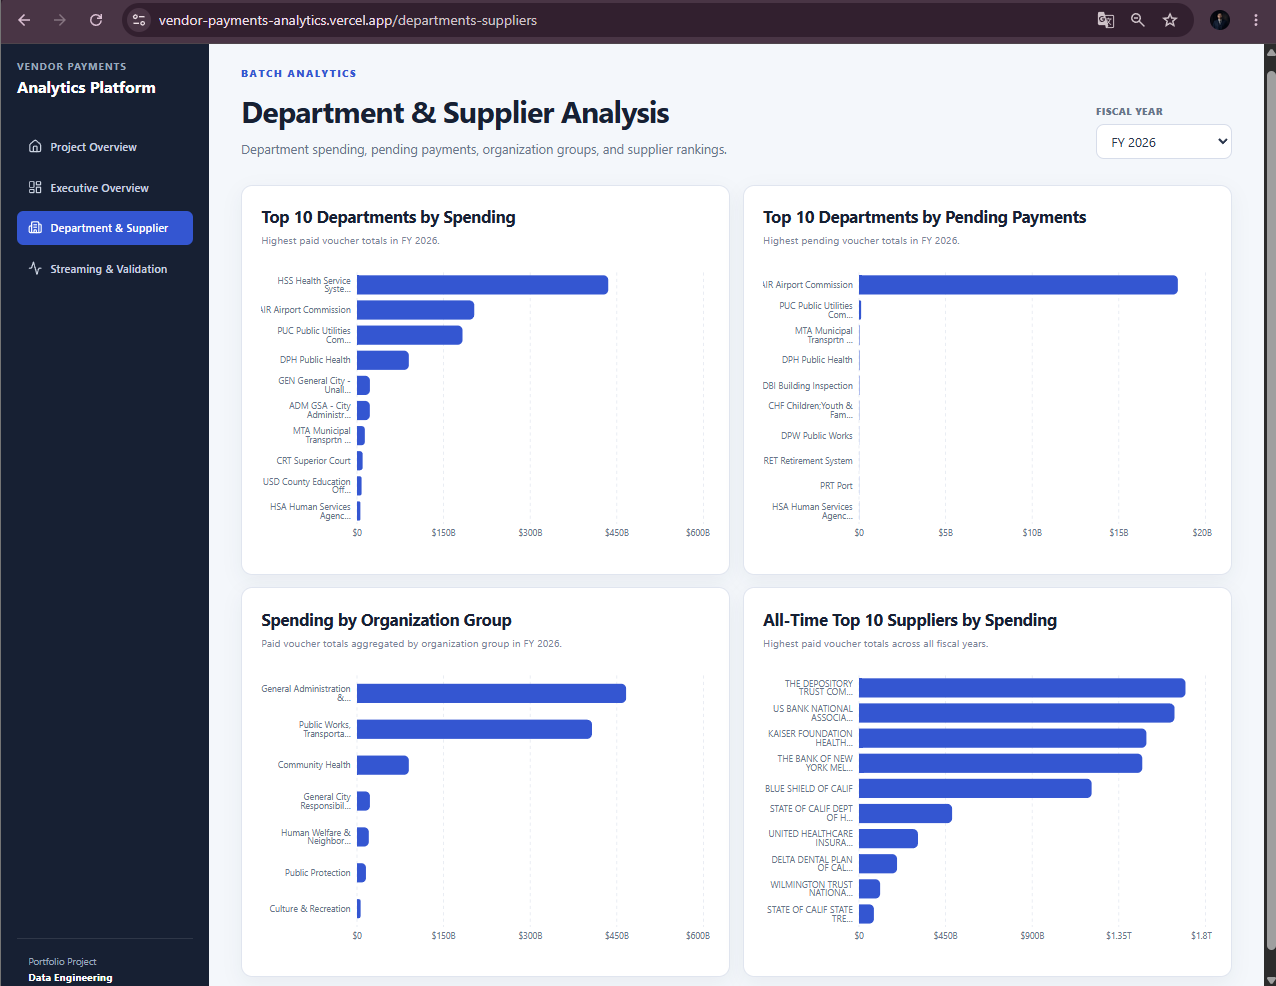

This screenshot's page, from the dashboard's own definition file:
{"tool":"powerbi","page":{"name":"Department & Supplier","canvas":[1280,720],"ordinal":1},"visuals":[{"type":"textbox","box":[0,0,986.7,77.8],"z":0},{"type":"clusteredBarChart","title":"Top 10 Departments by Spending","fields":{"Category":["batch_spending_by_department.department"],"Y":["Sum(batch_spending_by_department.total_vouchers_paid)"]},"box":[0,83.3,640,321.1],"z":1000},{"type":"clusteredBarChart","title":"Spending by Organization Group","fields":{"Category":["batch_spending_by_department.organization_group"],"Y":["Sum(batch_spending_by_department.total_vouchers_paid)"]},"box":[0,398.9,640,321.1],"z":2000},{"type":"clusteredBarChart","title":"Top 10 Departments by Pending Payments","fields":{"Category":["batch_spending_by_department.department"],"Y":["Sum(batch_spending_by_department.total_vouchers_pending)"]},"box":[640,83.3,640,321.1],"z":3000},{"type":"clusteredBarChart","title":"All-Time Top 10 Suppliers by Spending","fields":{"Category":["batch_top_suppliers.supplier_name"],"Y":["Sum(batch_top_suppliers.total_vouchers_paid)"]},"box":[640,400,640,320],"z":4000},{"type":"slicer","fields":{"Values":["dim_fiscal_year.fiscal_year"]},"box":[986.7,0,293.3,78.9],"z":5000}]}

Visuals, with their boxes on the page's 1280x720 design canvas (x1, y1, x2, y2). These are canvas units, not pixel positions in the 1276x986 screenshot, which may show the page scaled, cropped or inside an application window:
textbox: left=0, top=0, right=987, bottom=78
"Top 10 Departments by Spending" clusteredBarChart: left=0, top=83, right=640, bottom=404
"Spending by Organization Group" clusteredBarChart: left=0, top=399, right=640, bottom=720
"Top 10 Departments by Pending Payments" clusteredBarChart: left=640, top=83, right=1280, bottom=404
"All-Time Top 10 Suppliers by Spending" clusteredBarChart: left=640, top=400, right=1280, bottom=720
slicer - dim_fiscal_year.fiscal_year: left=987, top=0, right=1280, bottom=79
